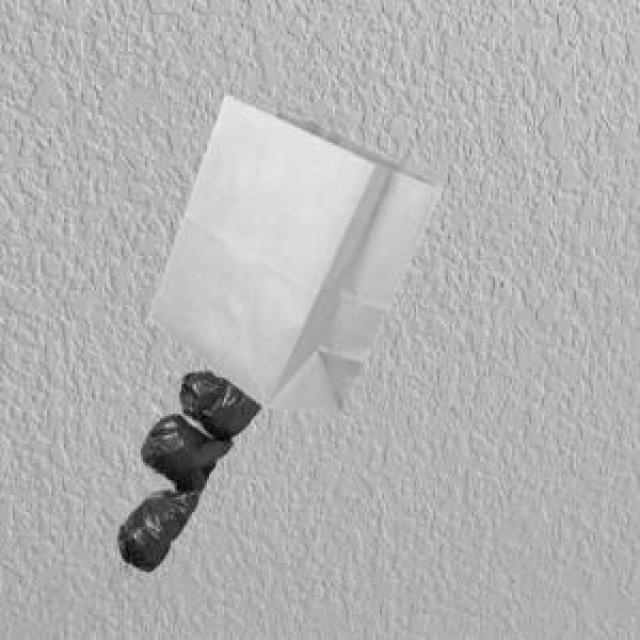miscellaneous trash: (113, 367, 258, 568)
paper: (145, 92, 437, 408)
